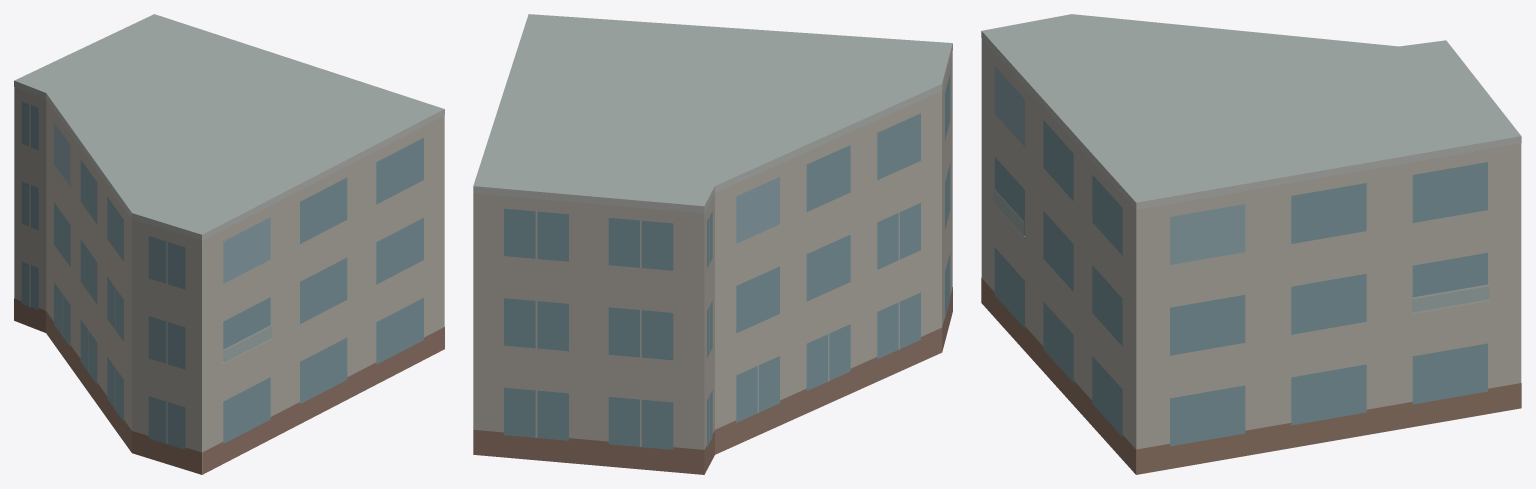
Rendered from survey-upis-32882514.glb.
3 views of the same model, side by side, from view 1: azimuth 30°, elevation 25°; view 2: azimuth 150°, elevation 25°; view 3: azimuth 270°, elevation 25° (orthographic). The views are drawn at different scales.
Visible parts, largest first — view 1: survey-upis-32882514.tmp; view 2: survey-upis-32882514.tmp; view 3: survey-upis-32882514.tmp.
Boxes of the visible parts, left/top/right/bottom form: survey-upis-32882514.tmp: left=14, top=14, right=444, bottom=474; survey-upis-32882514.tmp: left=473, top=14, right=952, bottom=474; survey-upis-32882514.tmp: left=981, top=14, right=1521, bottom=474.
Size of the model in its own units: 13.62 by 9.15 by 16.46.
